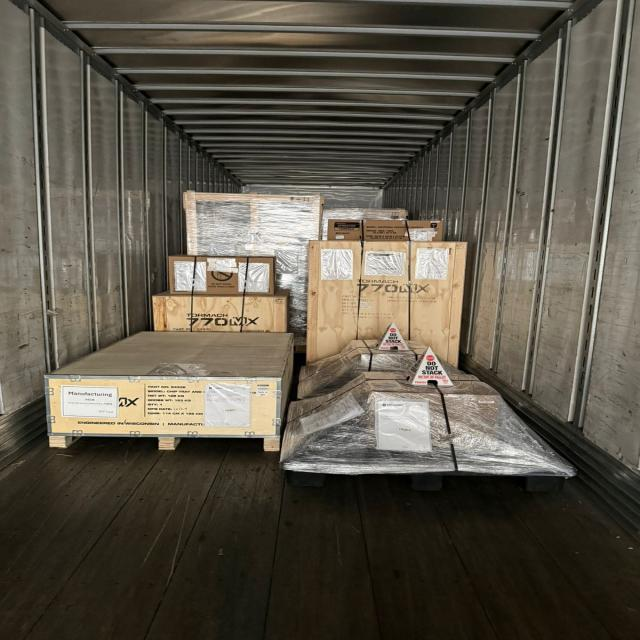15lx: (183, 191, 323, 336)
770b: (307, 220, 467, 364)
encl770: (45, 332, 292, 448)
stnd770: (153, 290, 292, 333)
